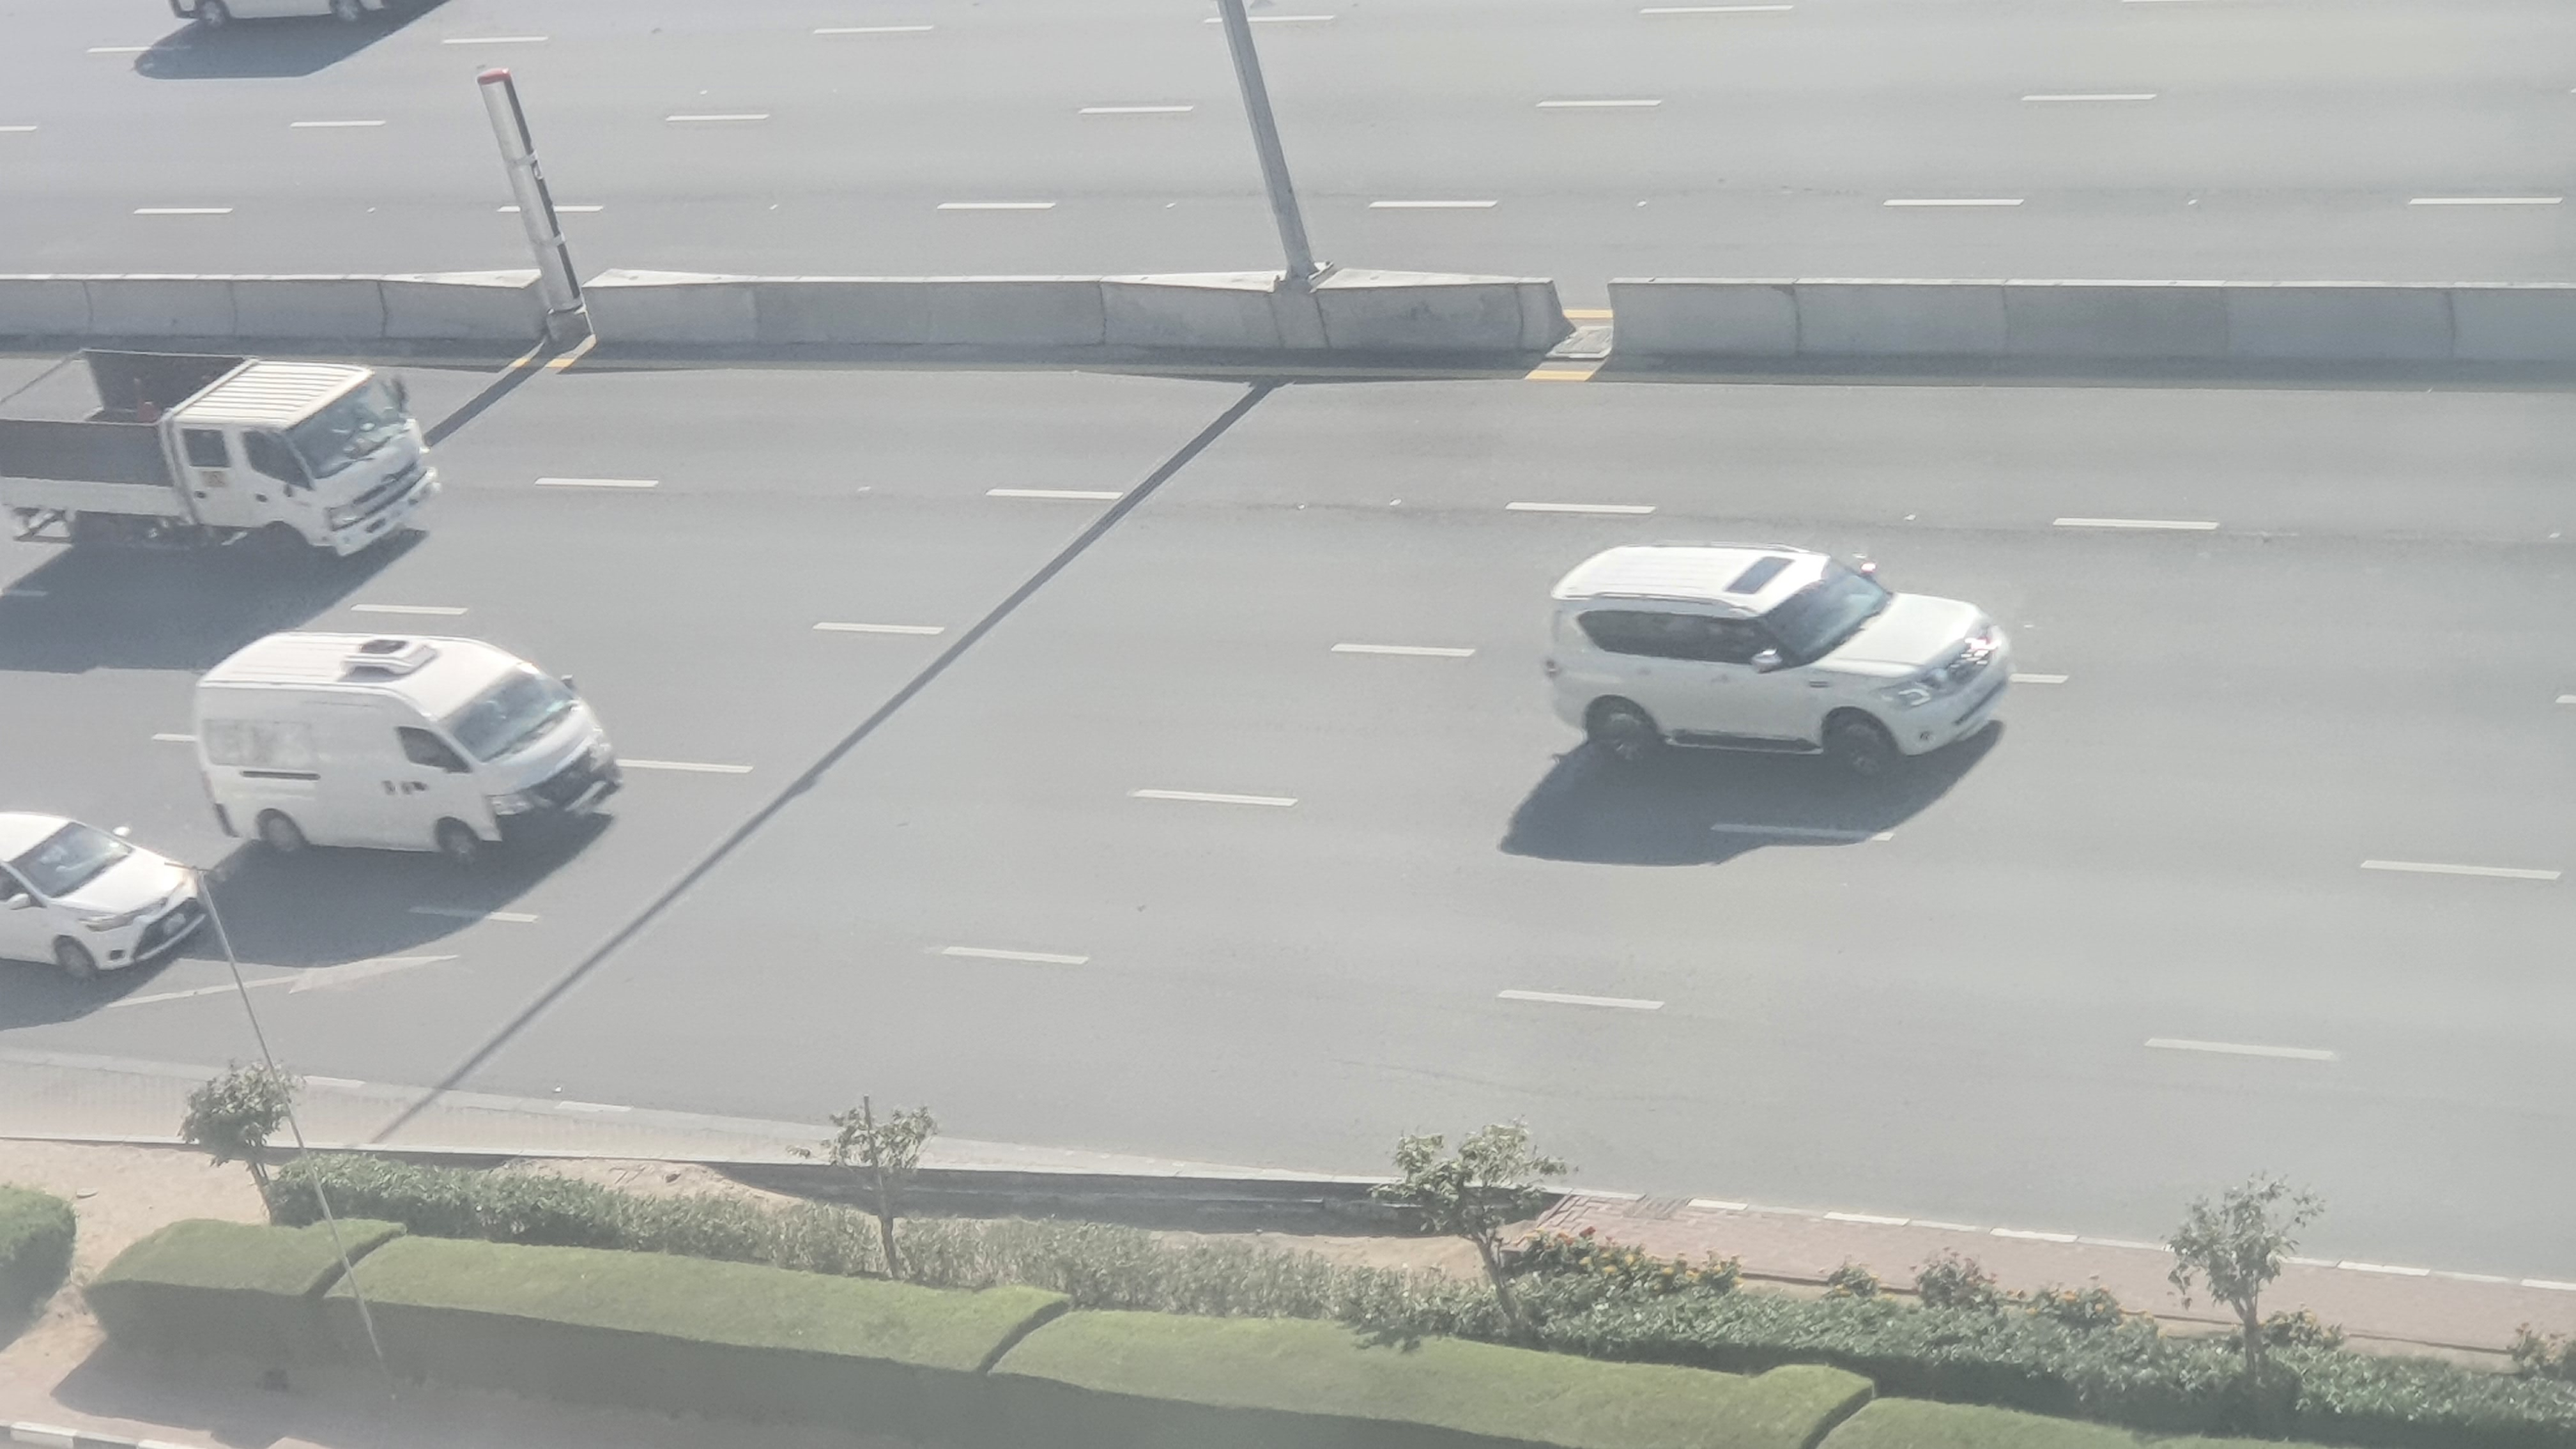NotSunroof: (0, 803, 209, 993)
Sunroof: (1545, 547, 2015, 786)
